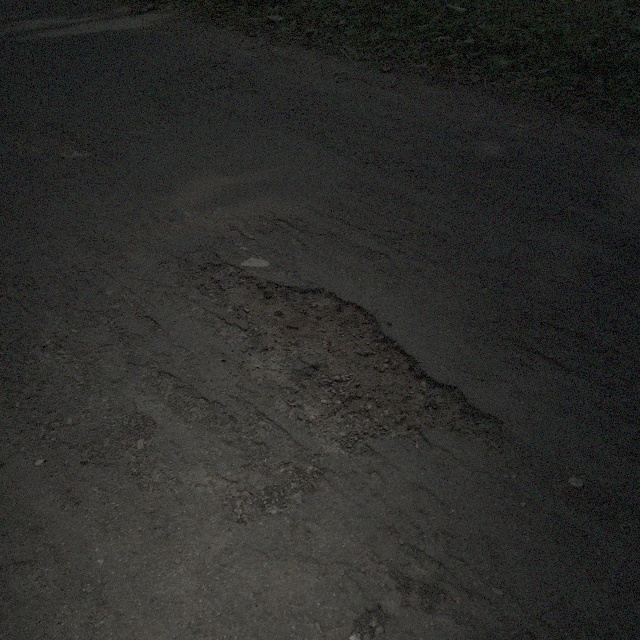pothole: (188, 258, 512, 464)
